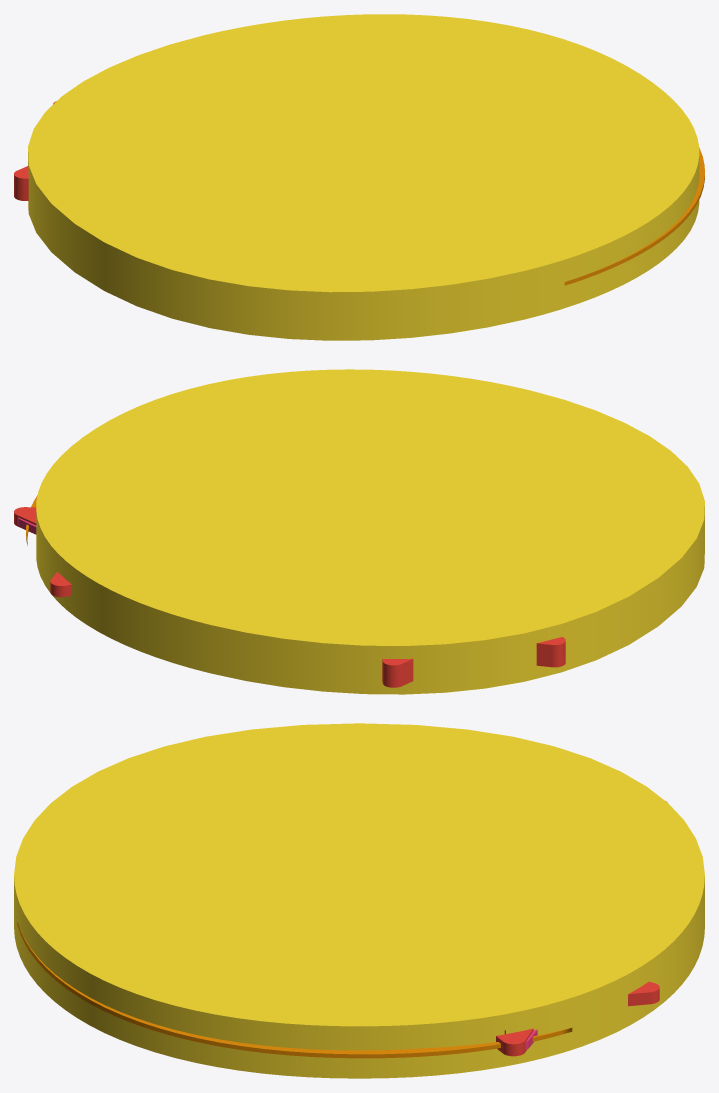
The model's file is emoji_u1f929.glb.
3 renders of one model, top to bottom at view 1: azimuth 30°, elevation 25°; view 2: azimuth 150°, elevation 25°; view 3: azimuth 270°, elevation 25°, orthographic. The views are drawn at different scales.
Visible parts, largest first — view 1: emoji_u1f929; view 2: emoji_u1f929; view 3: emoji_u1f929.
Boxes of the visible parts, box(x1,y1,x2,y2) form: emoji_u1f929: box(14, 14, 704, 340); emoji_u1f929: box(14, 369, 704, 694); emoji_u1f929: box(14, 723, 704, 1078).
Size of the model in its own units: 0.0328 by 0.0026 by 0.0312.
